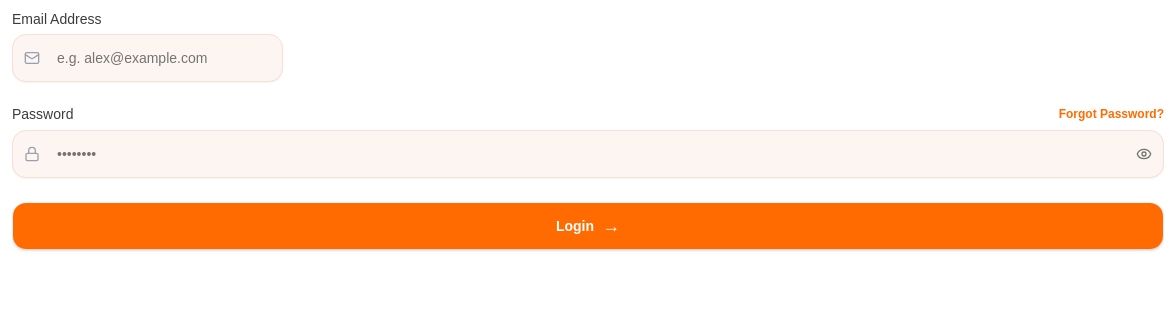
Test: Customer LoginForm UI Testing › shows validation error on empty submit
Click the button "Login →" at x=588, y=226, box [12,202,1164,250]
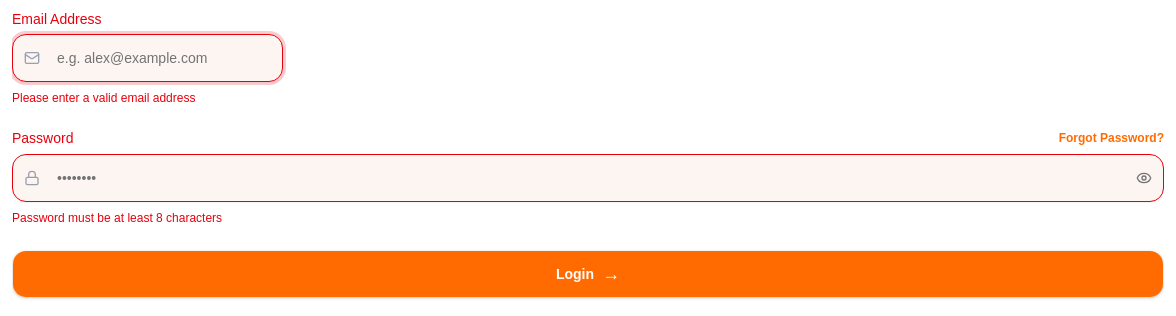
Expected: the text "Please enter a valid email address" is shown, [12,91,195,105]
